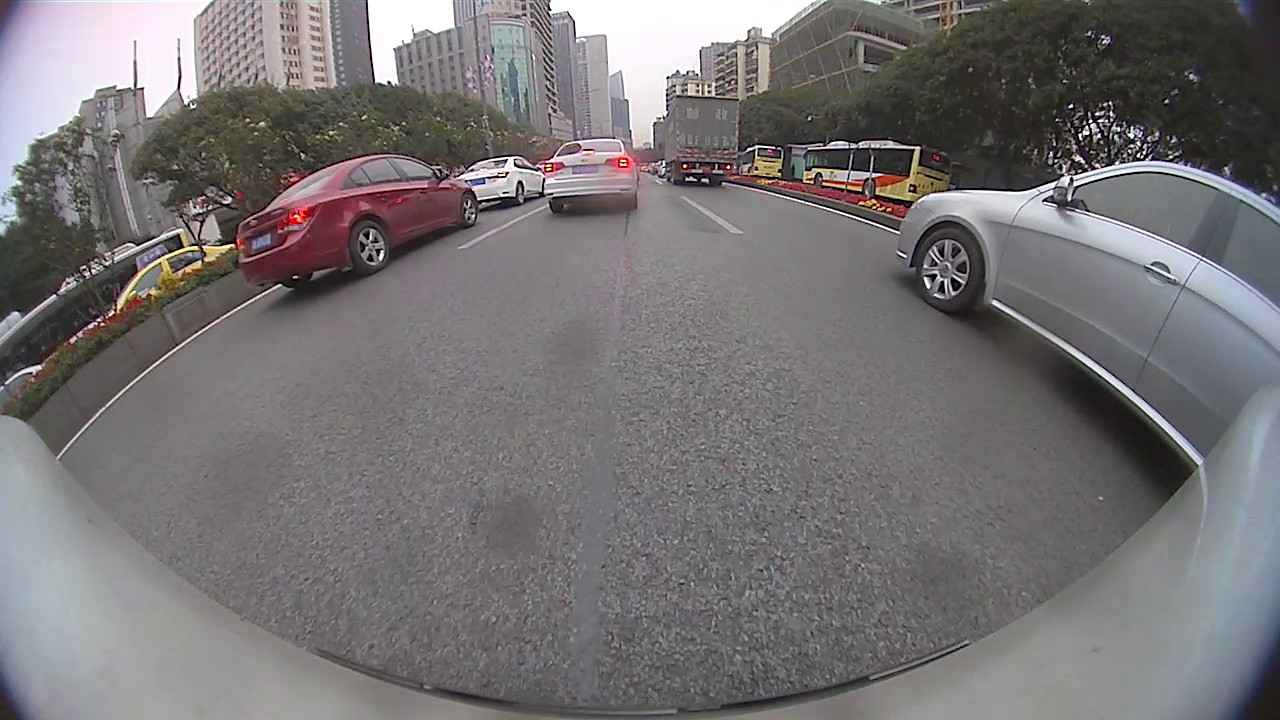bus: (1, 229, 196, 397), (803, 139, 953, 204), (740, 143, 785, 177)
car: (899, 160, 1279, 475), (236, 153, 480, 291), (116, 244, 236, 317), (545, 136, 640, 216), (458, 154, 545, 206)
front: (912, 225, 984, 313), (459, 193, 478, 228), (812, 172, 824, 190)
rear: (352, 220, 391, 272), (862, 176, 876, 197), (515, 182, 527, 205)
truck: (658, 95, 744, 187)
